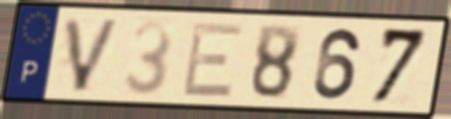3: (122, 16, 177, 98)
6: (311, 26, 363, 103)
7: (367, 25, 432, 106)
8: (248, 22, 302, 102)
E: (179, 21, 247, 100)
V: (62, 15, 125, 94)
